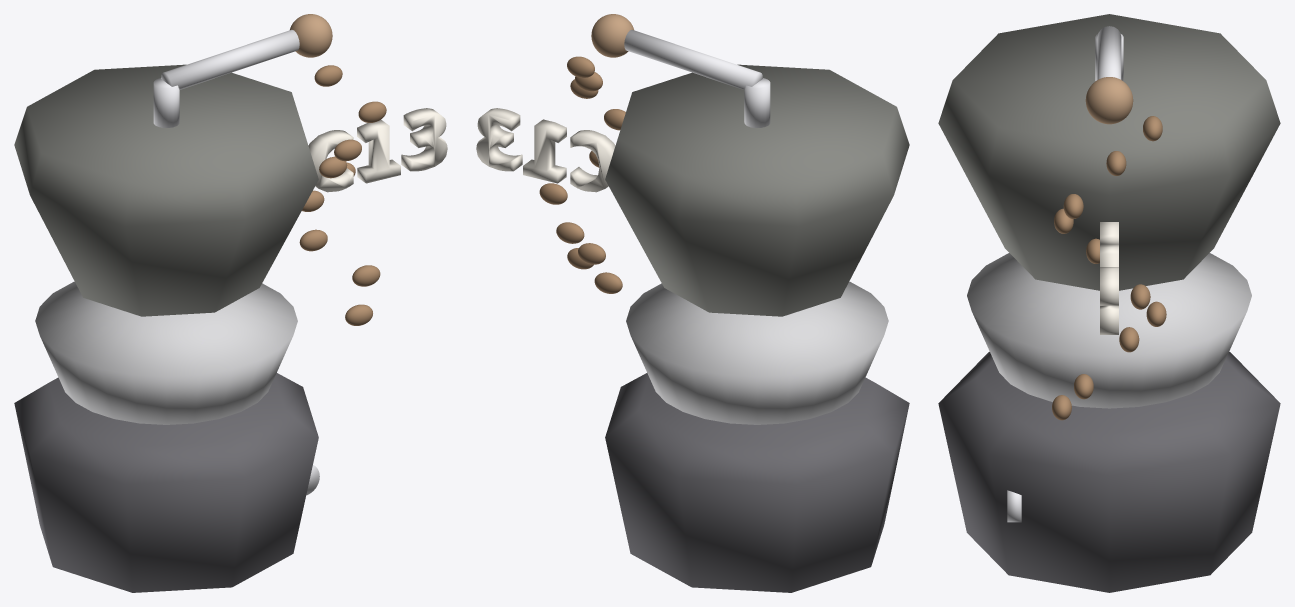
The model's file is coffee-grinder.glb.
3 renders of one model, left to right at view 1: azimuth 30°, elevation 25°; view 2: azimuth 150°, elevation 25°; view 3: azimuth 270°, elevation 25°, orthographic. The views are drawn at different scales.
Visible parts, largest first — view 1: part0, part2, part1; view 2: part0, part2, part1; view 3: part0, part2, part1.
Boxes of the visible parts, x1,y1,x2,y2 form: part0: [14, 14, 447, 592]; part2: [35, 281, 297, 424]; part1: [153, 29, 319, 495]; part0: [476, 14, 909, 592]; part2: [626, 281, 888, 424]; part1: [624, 29, 770, 127]; part0: [938, 14, 1280, 592]; part2: [967, 253, 1251, 408]; part1: [1007, 26, 1123, 522].
Bounding box in the file's own units: 0.8859 × 1 × 0.5854.
3 materials, 3 textured.
